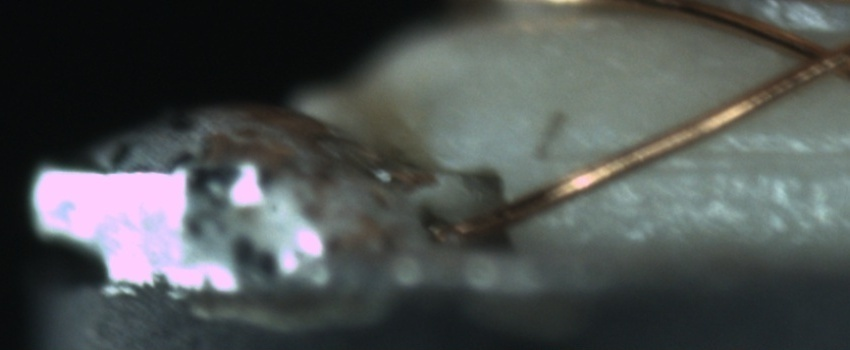CL: (777, 28, 850, 88)
DL: (607, 125, 850, 192)
